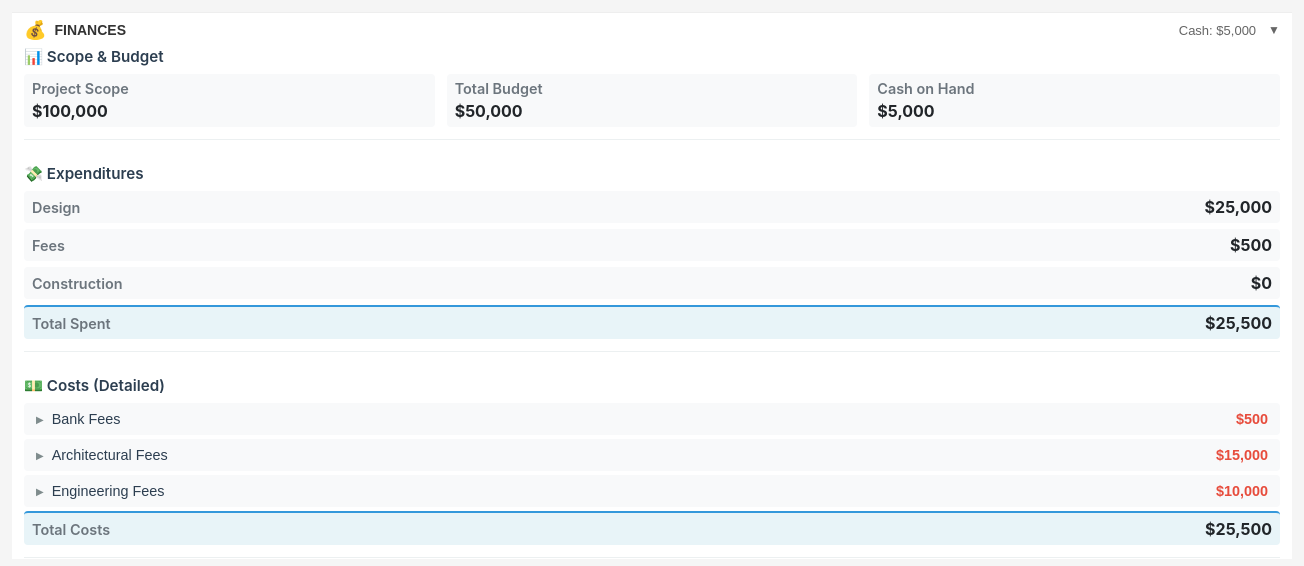
FinancesSection › Cost Tracking Display › should expand cost category to show transaction details when clicked
The width and height of the screenshot is (1304, 566).
# Find and click the Bank Fees category header
Click the button "▶ Bank Fees $500" at {"x": 86, "y": 419}, box [24,403,1280,435]
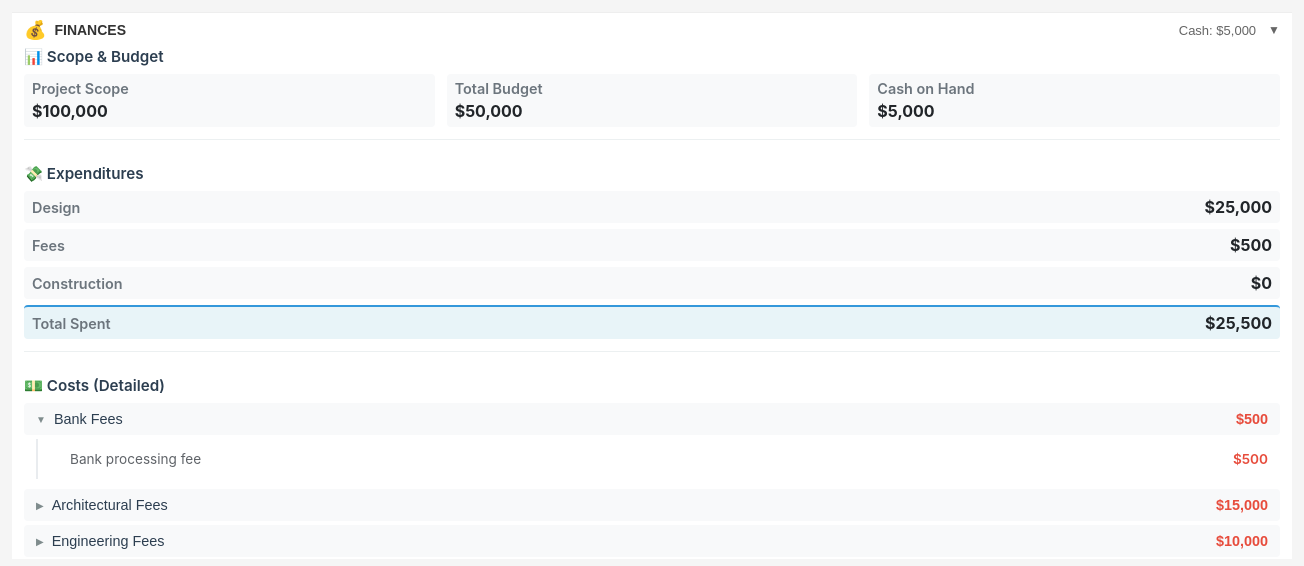
Result: the text "Bank processing fee" is shown at [70,451,201,467]
